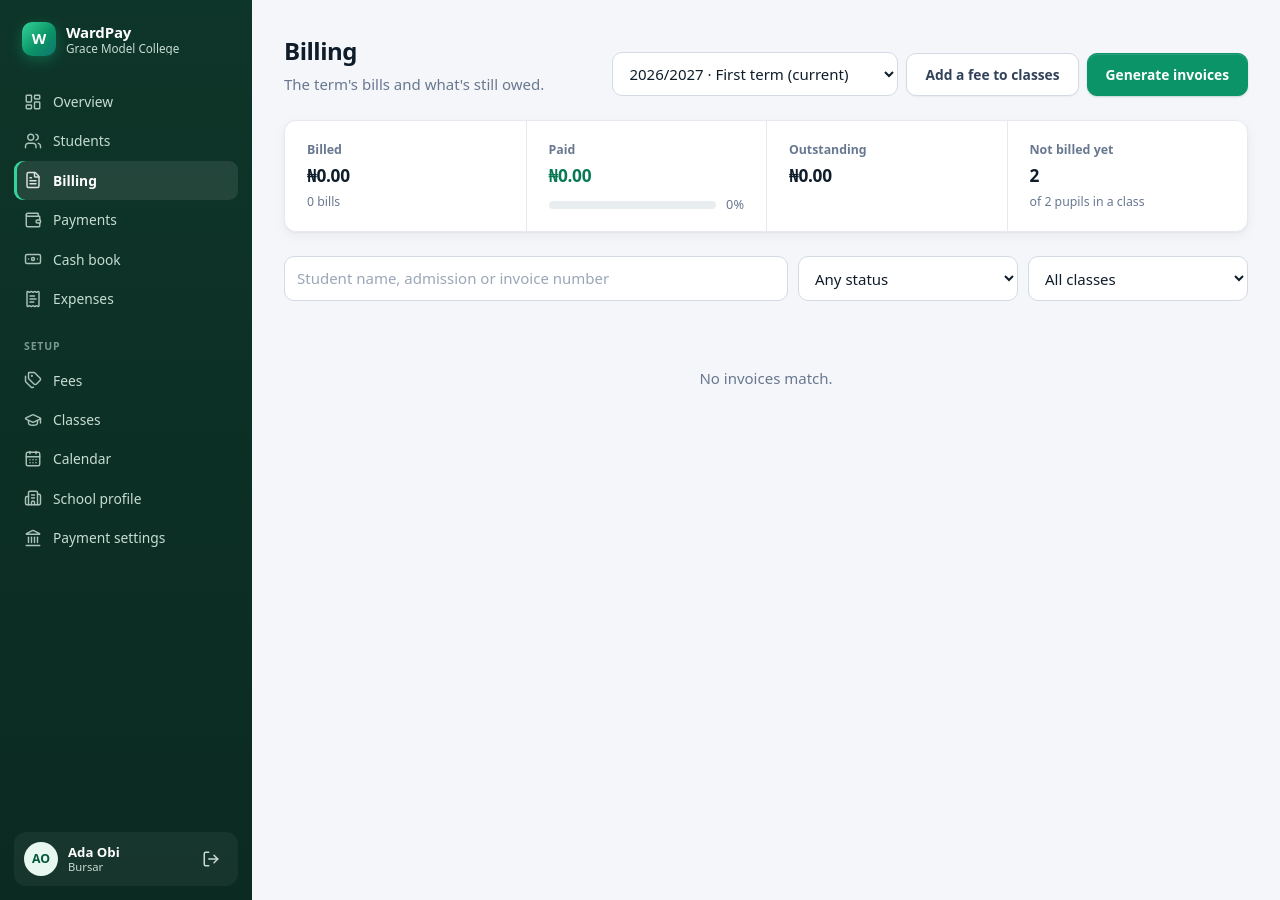
fees and billing › previews then generates the term invoices
Click the button "Generate invoices" at (1167, 74), box [1087,53,1248,96]
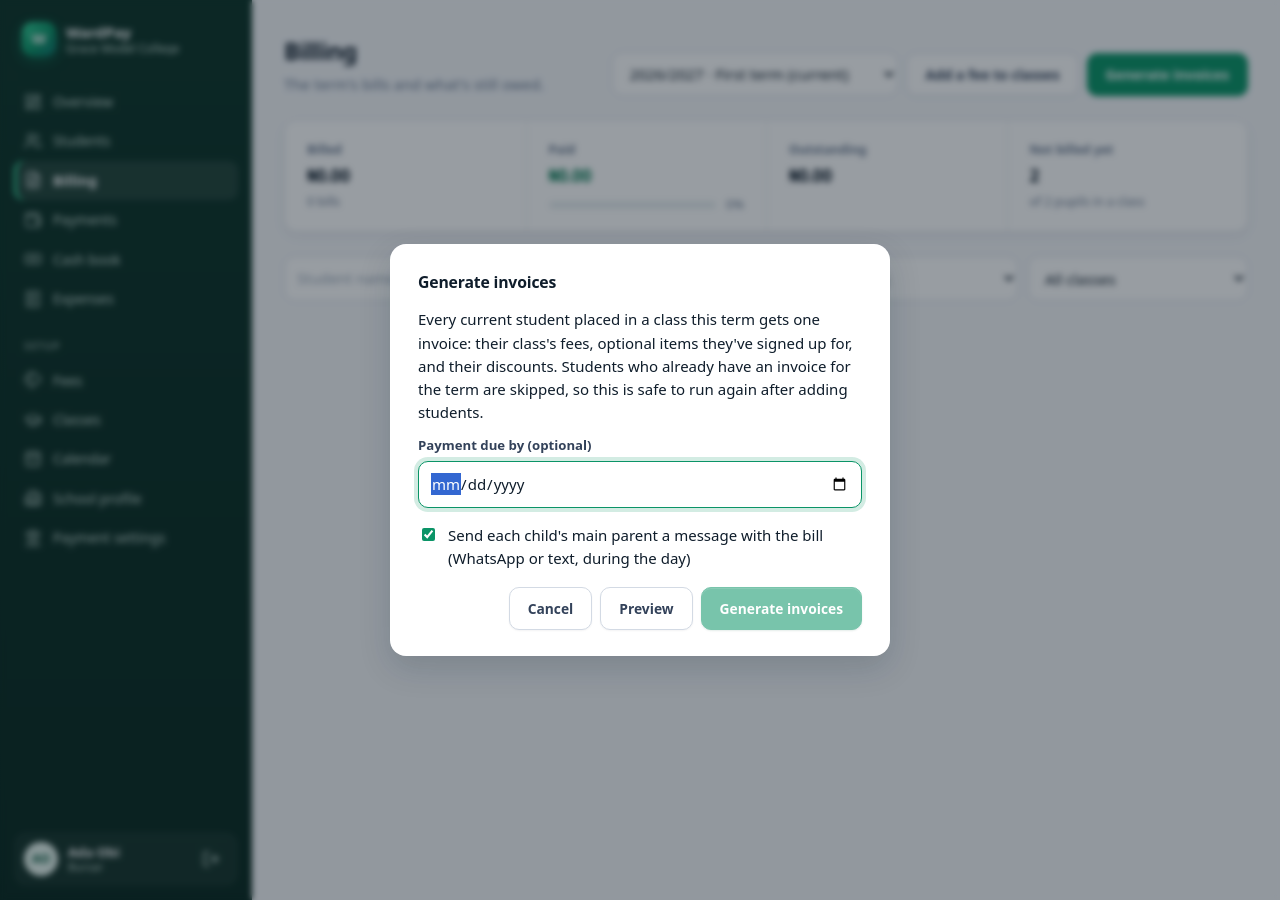
Click the button "Preview" at (646, 608), box [600,587,693,630]
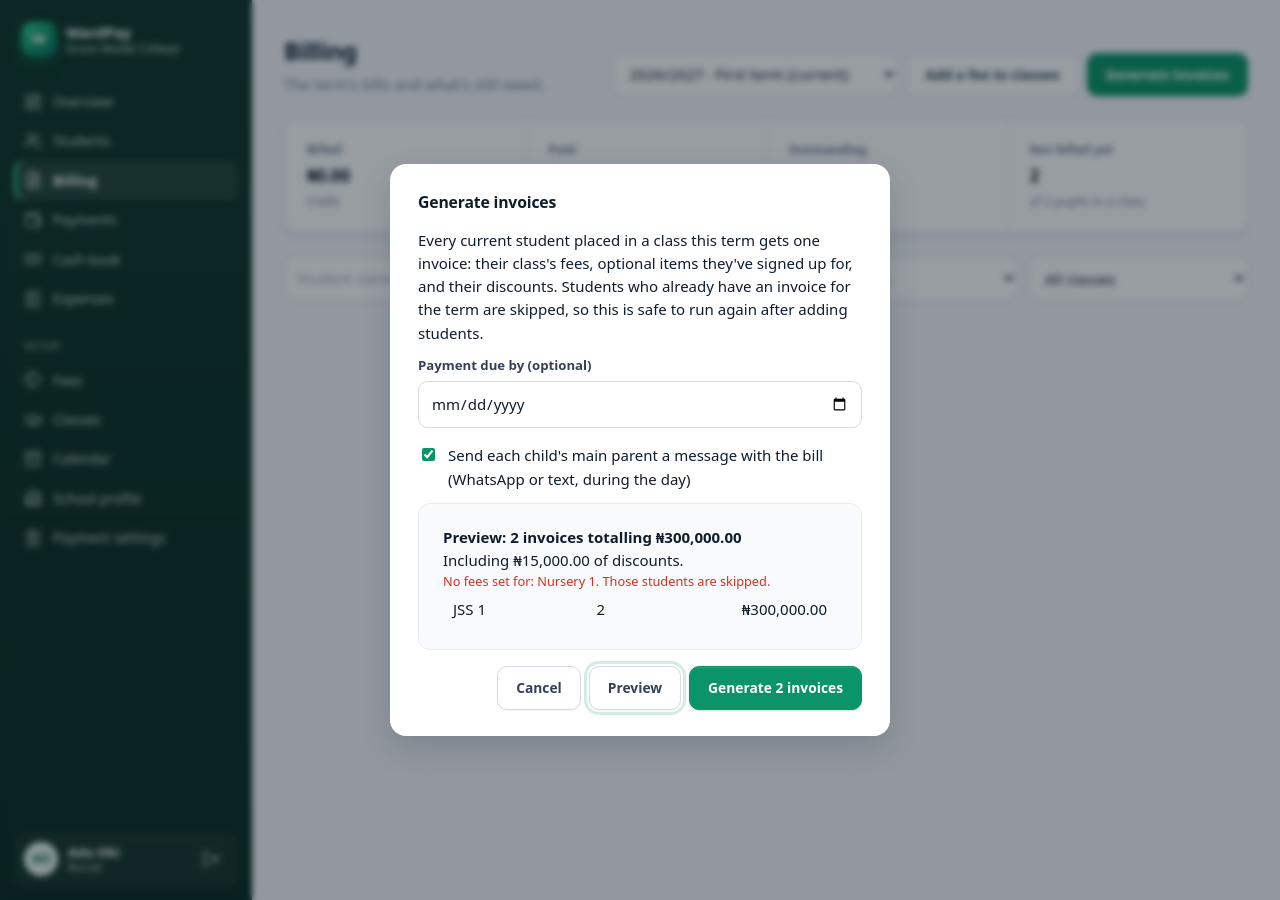
Now the text "Preview: 2 invoices totalling ₦300,000.00" is shown, box [443,527,742,547]
Now the text "No fees set for: Nursery 1. Those students are skipped." is shown, box [443,572,770,590]
Click the button "Generate 2 invoices" at (776, 688), box [689,666,862,710]
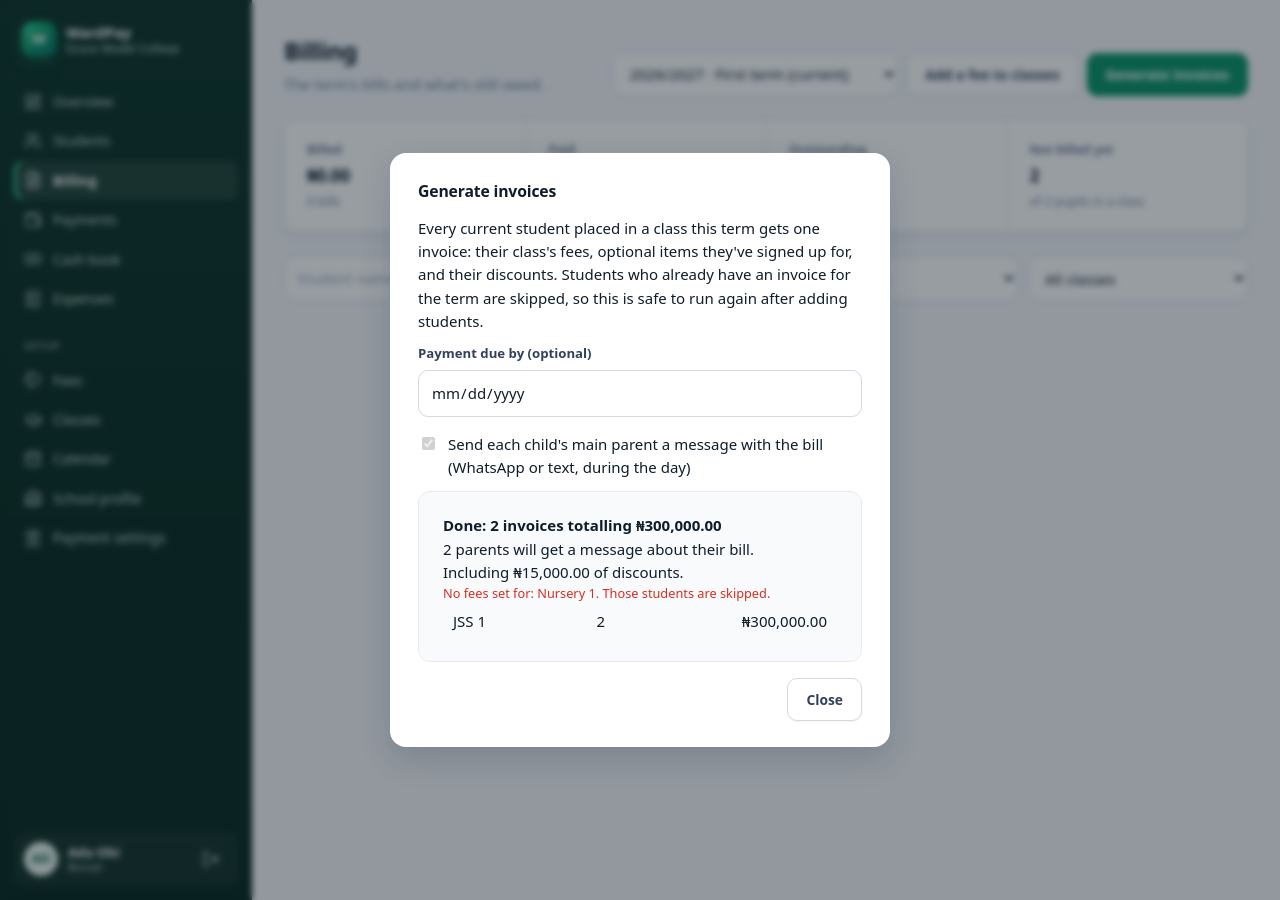
Now the text "Done: 2 invoices totalling ₦300,000.00" is shown, box [443,515,722,535]
Now the text "2 parents will get a message about their bill." is shown, box [443,539,754,559]
